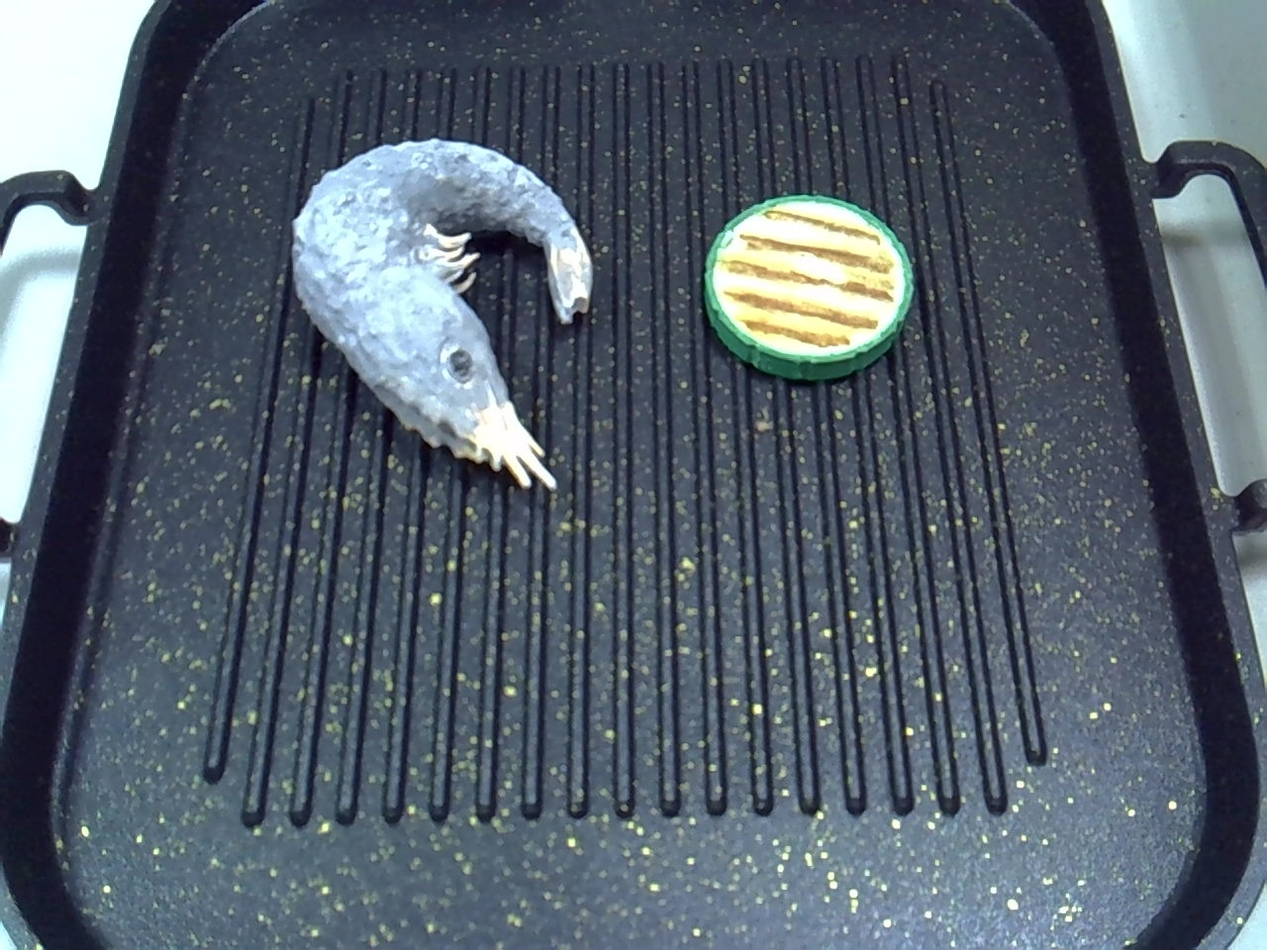shrimp_raw: (266, 128, 616, 504)
zucchini_cooked: (687, 173, 928, 389)
